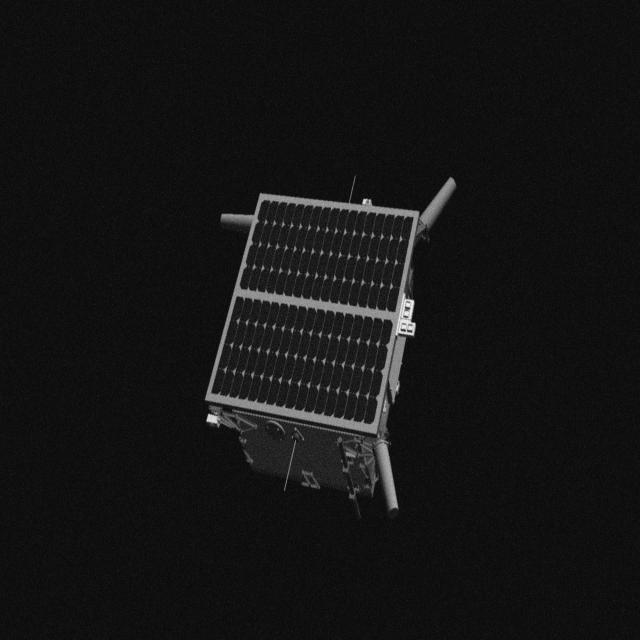medium_debris: (190, 154, 462, 522)
